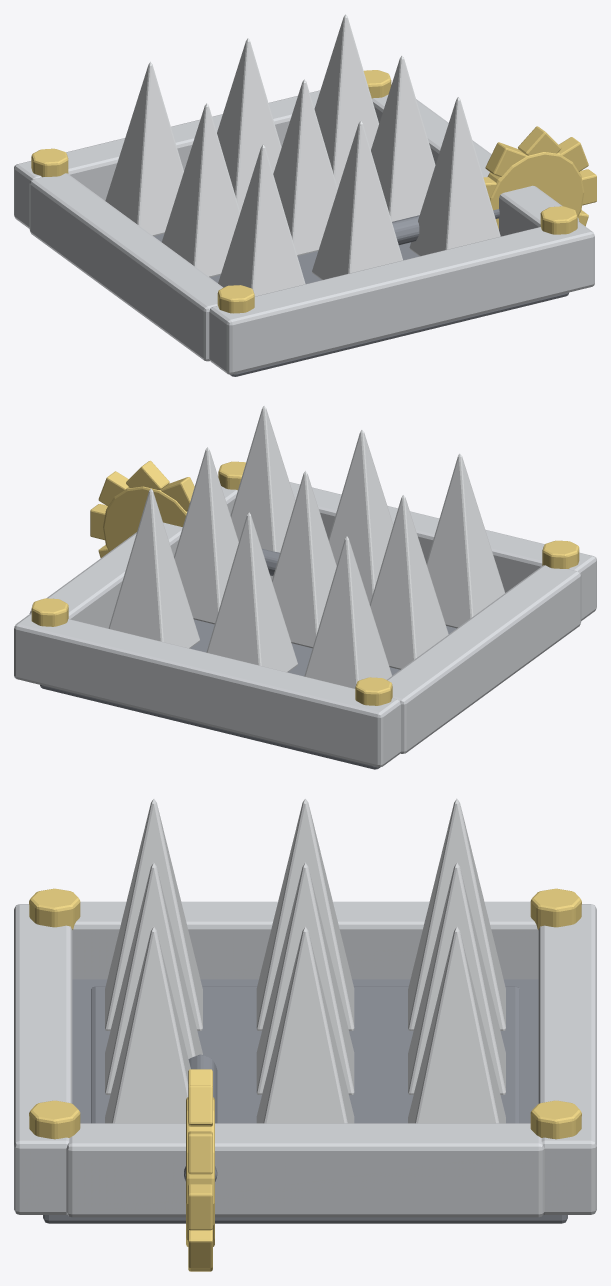
The model's file is trap_spikes.glb.
3 renders of one model, top to bottom at view 1: azimuth 30°, elevation 25°; view 2: azimuth 150°, elevation 25°; view 3: azimuth 270°, elevation 25°, orthographic. The views are drawn at different scales.
Parts seen in each view (by area): view 1: Frame0_-45, Frame-45_0, Spike-26_26, Spike-26_0, Spike0_-26, Spike26_-26, Spike-26_-26, Spike0_0, Spike26_0, Spike26_26, Spike0_26, Frame0_45 (+13 smaller); view 2: Frame0_45, Frame-45_0, Spike-26_-26, Spike-26_0, Spike26_26, Spike0_26, Spike-26_26, Spike26_0, Spike0_0, Spike0_-26, Spike26_-26, Frame0_-45 (+12 smaller); view 3: Frame45_0, Frame-45_0, SpikeBed, Frame0_45, Frame0_-45, Spike26_0, Spike26_26, Base, Spike26_-26, Spike0_0, Spike-26_0, Spike-26_26 (+13 smaller).
Part boxes in pixels (x1,y1,x2,y2): Frame0_-45: [209, 221, 594, 374]; Frame-45_0: [29, 173, 223, 361]; Spike-26_26: [105, 62, 183, 236]; Spike-26_0: [162, 103, 240, 277]; Spike0_-26: [312, 120, 402, 279]; Spike26_-26: [409, 97, 500, 256]; Spike-26_-26: [218, 144, 305, 296]; Spike0_0: [273, 79, 337, 255]; Spike26_0: [371, 55, 435, 221]; Spike26_26: [314, 14, 378, 187]; Spike0_26: [217, 38, 281, 211]; Frame0_45: [14, 90, 320, 228]; Frame0_45: [14, 613, 400, 767]; Frame-45_0: [387, 565, 581, 753]; Spike-26_-26: [426, 453, 504, 628]; Spike-26_0: [370, 495, 448, 669]; Spike26_26: [108, 488, 199, 648]; Spike0_26: [206, 512, 297, 672]; Spike-26_26: [304, 536, 391, 688]; Spike26_0: [174, 447, 238, 624]; Spike0_0: [272, 471, 336, 648]; Spike0_-26: [328, 430, 393, 604]; Spike26_-26: [230, 406, 295, 580]; Frame0_-45: [289, 482, 596, 620]; Frame45_0: [66, 1123, 544, 1217]; Frame-45_0: [72, 901, 538, 979]; SpikeBed: [91, 986, 519, 1123]; Frame0_45: [538, 904, 596, 1214]; Frame0_-45: [14, 904, 72, 1214]; Spike26_0: [256, 927, 354, 1123]; Spike26_26: [408, 927, 505, 1123]; Base: [43, 979, 567, 1223]; Spike26_-26: [105, 927, 190, 1123]; Spike0_0: [256, 862, 354, 1094]; Spike-26_0: [256, 798, 354, 1030]; Spike-26_26: [408, 799, 505, 1030].
Size of the model in its own units: 1.17 by 0.5286 by 1.
